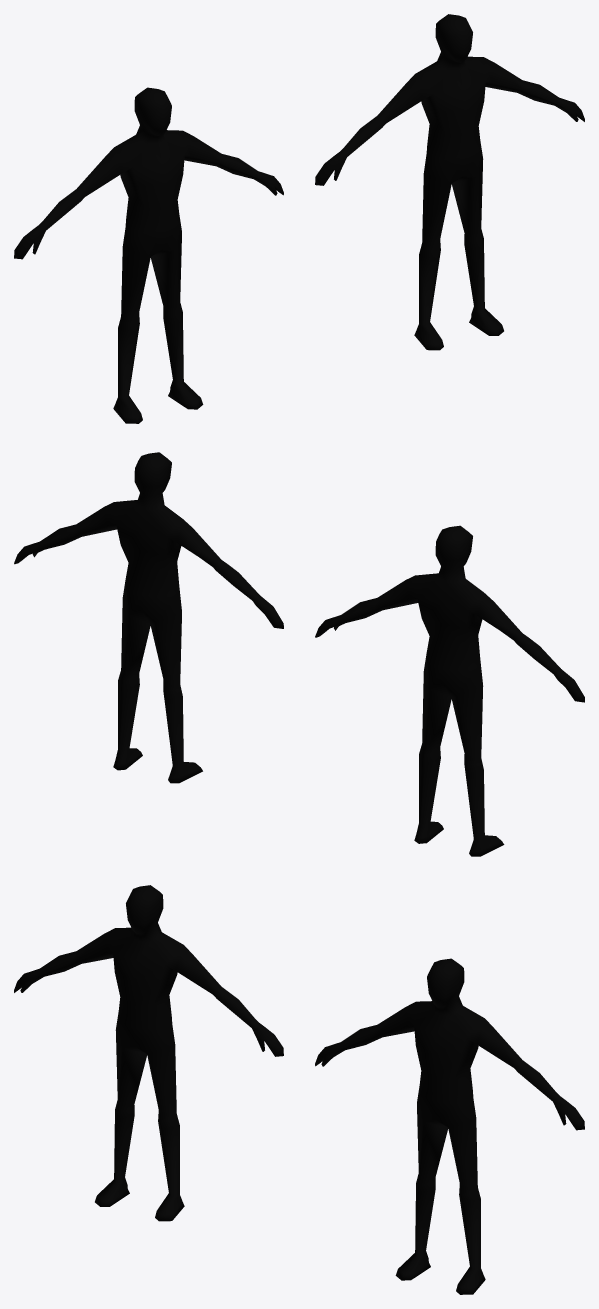
File: Humanoid.glb
3 views of the same model, one above another, from view 1: azimuth 30°, elevation 25°; view 2: azimuth 150°, elevation 25°; view 3: azimuth 330°, elevation 25° (orthographic).
Visible parts, largest first — view 1: HumanoidBase_Overlapping, HumanoidBase_NotOverlapping; view 2: HumanoidBase_NotOverlapping, HumanoidBase_Overlapping; view 3: HumanoidBase_NotOverlapping, HumanoidBase_Overlapping.
Boxes of the visible parts, x1=… form: HumanoidBase_Overlapping: x1=315, y1=14, x2=584, y2=350; HumanoidBase_NotOverlapping: x1=14, y1=87, x2=283, y2=423; HumanoidBase_NotOverlapping: x1=315, y1=525, x2=584, y2=856; HumanoidBase_Overlapping: x1=14, y1=452, x2=283, y2=783; HumanoidBase_NotOverlapping: x1=14, y1=885, x2=283, y2=1221; HumanoidBase_Overlapping: x1=315, y1=958, x2=584, y2=1294.
Size of the model in its own units: 3.41 by 1.8 by 0.2862.
2 materials, 2 textured.
